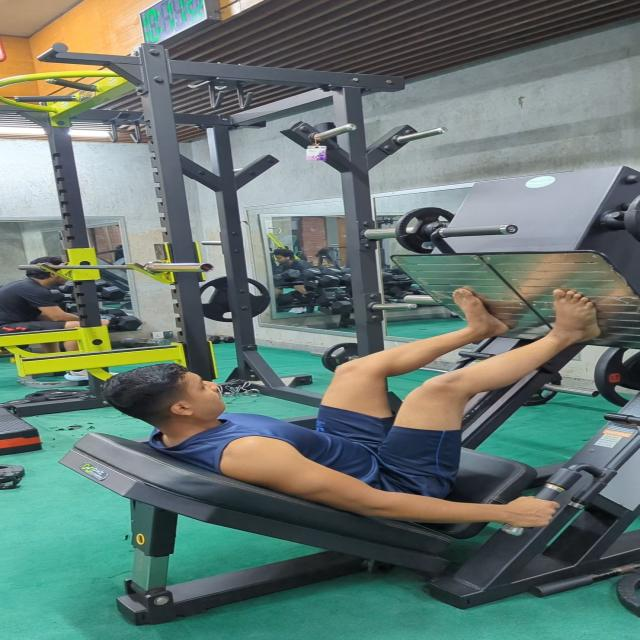Normal_LegPress: (74, 273, 616, 537)
